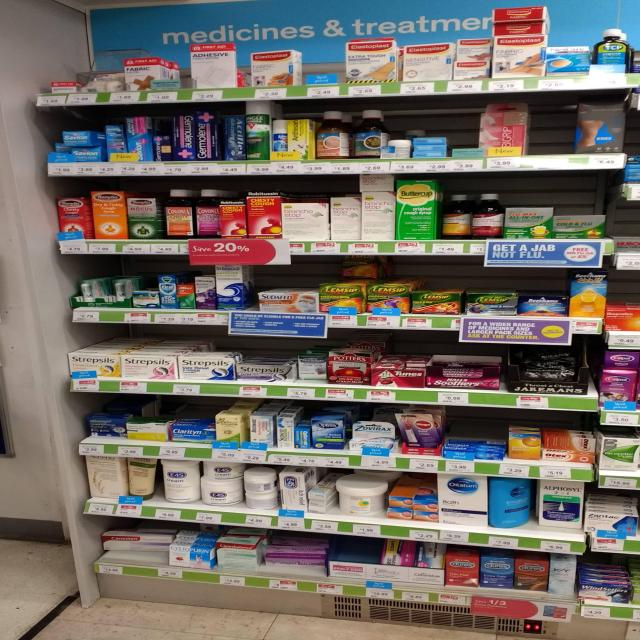empty_space: (544, 110, 568, 150)
